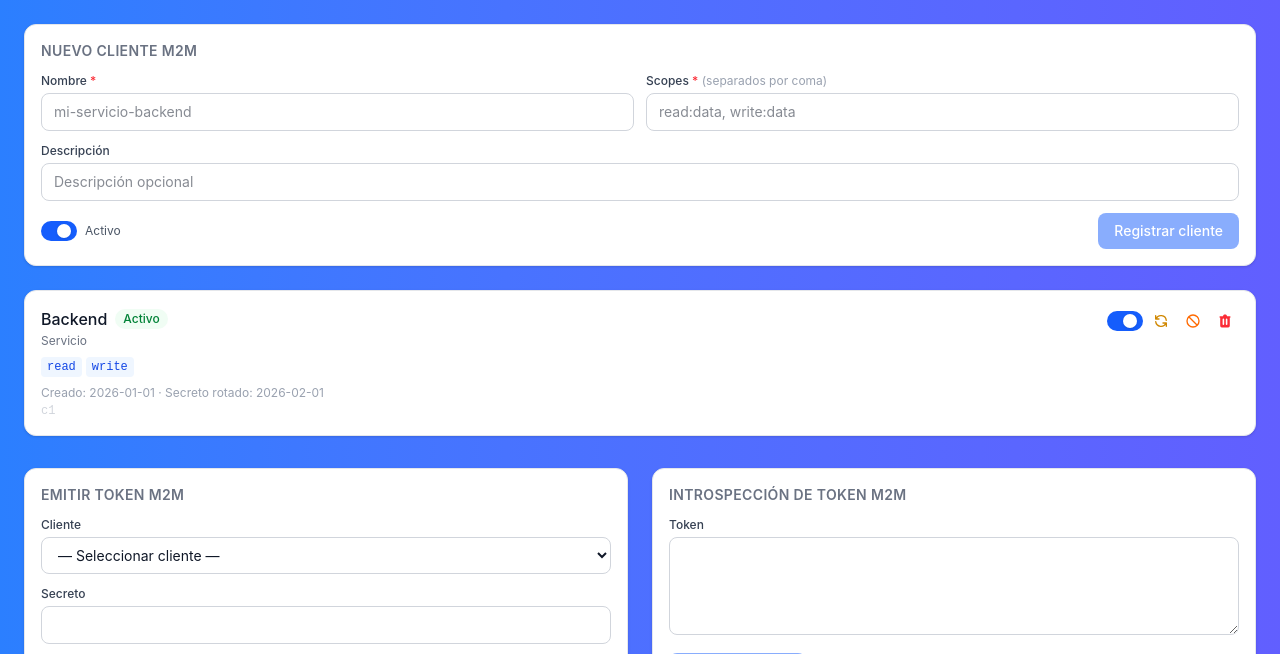
Test: ApplicationManagedClientsComponent › rotates the secret after confirmation and shows the grace period
Click the button titled "Rotar secreto".
click(1161, 321)  # box [1147,307,1175,335]
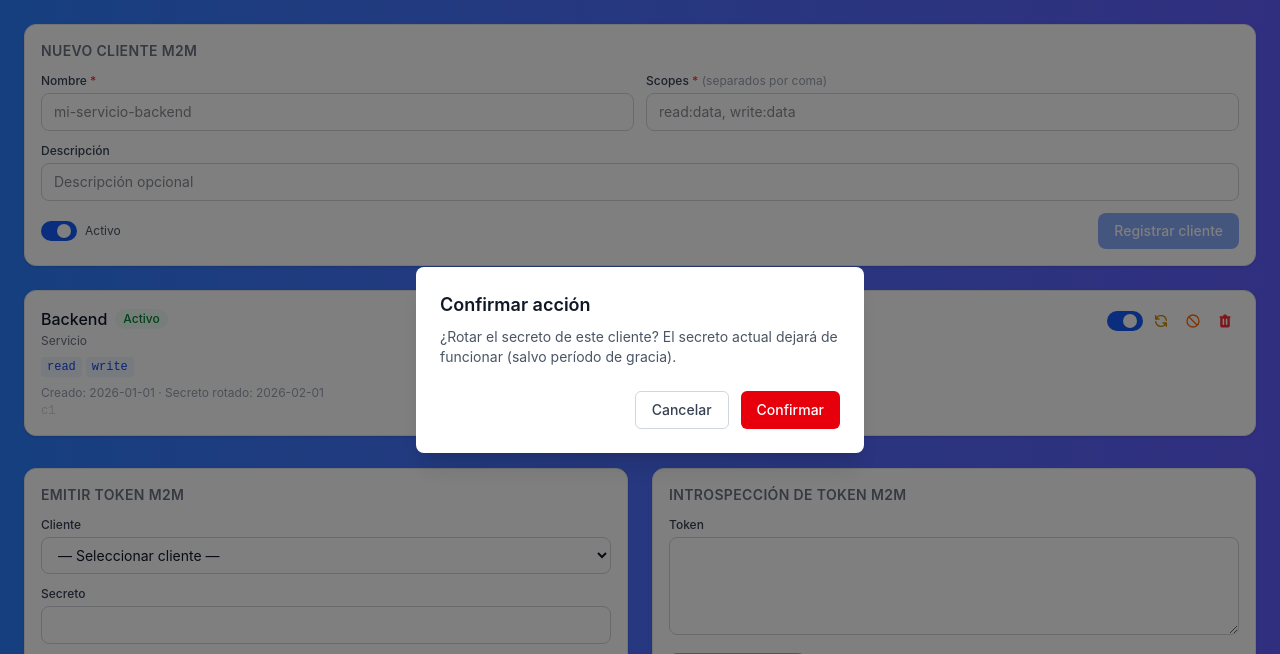
Expected: the text "¿Rotar el secreto" is shown, [440,328,838,365]
Click the button "Confirmar".
click(790, 410)  # box [741,391,840,429]
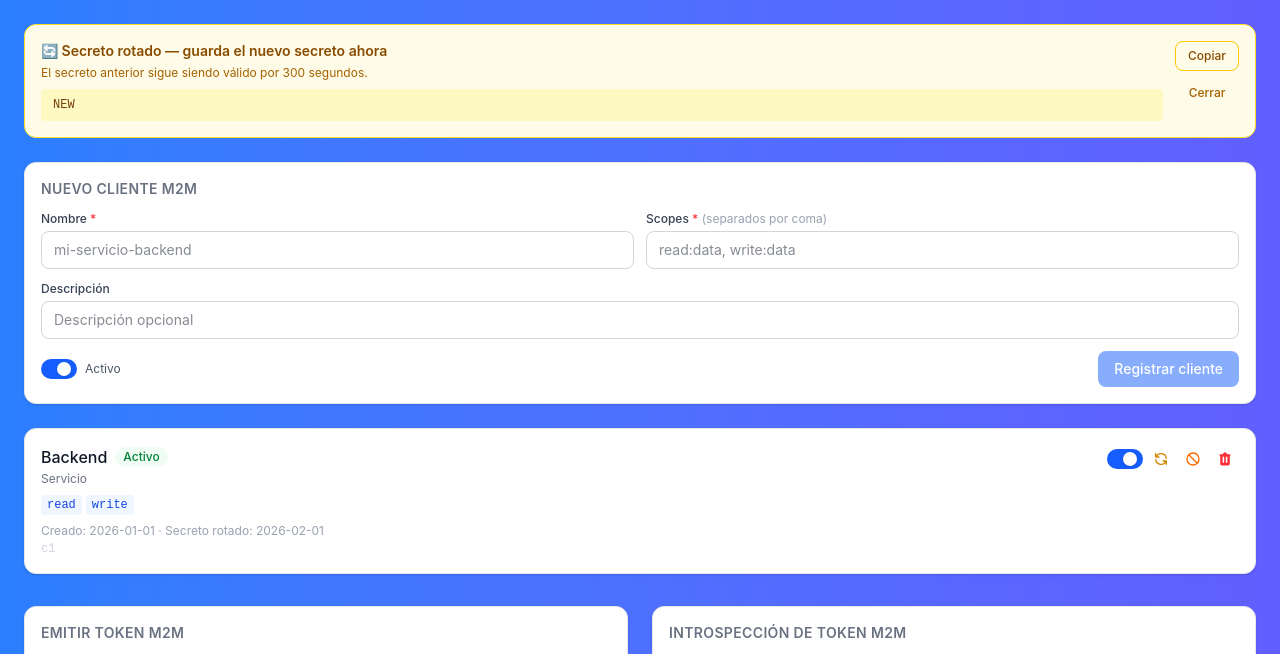
Expected: the text "NEW" is shown, [41,89,1163,121]
Expected: the text "300 segundos" is shown, [41,65,368,80]
Click the button "Cerrar".
click(1207, 93)  # box [1175,79,1239,107]
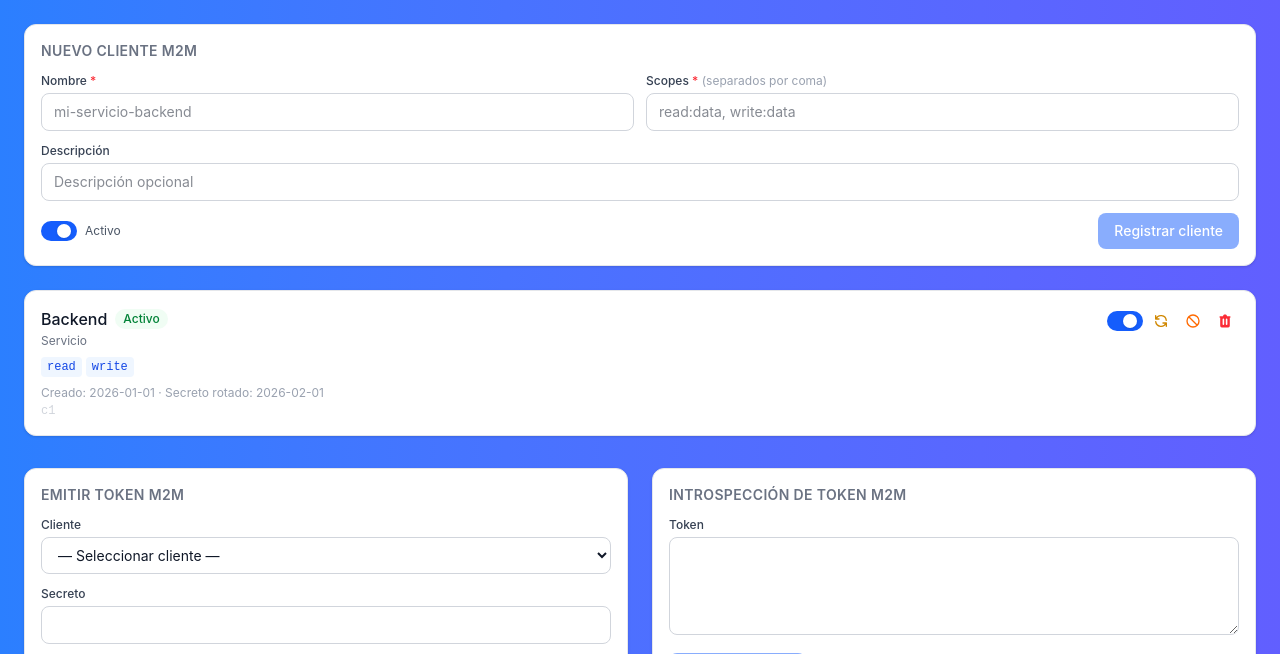
Expected: the text "NEW" is gone
